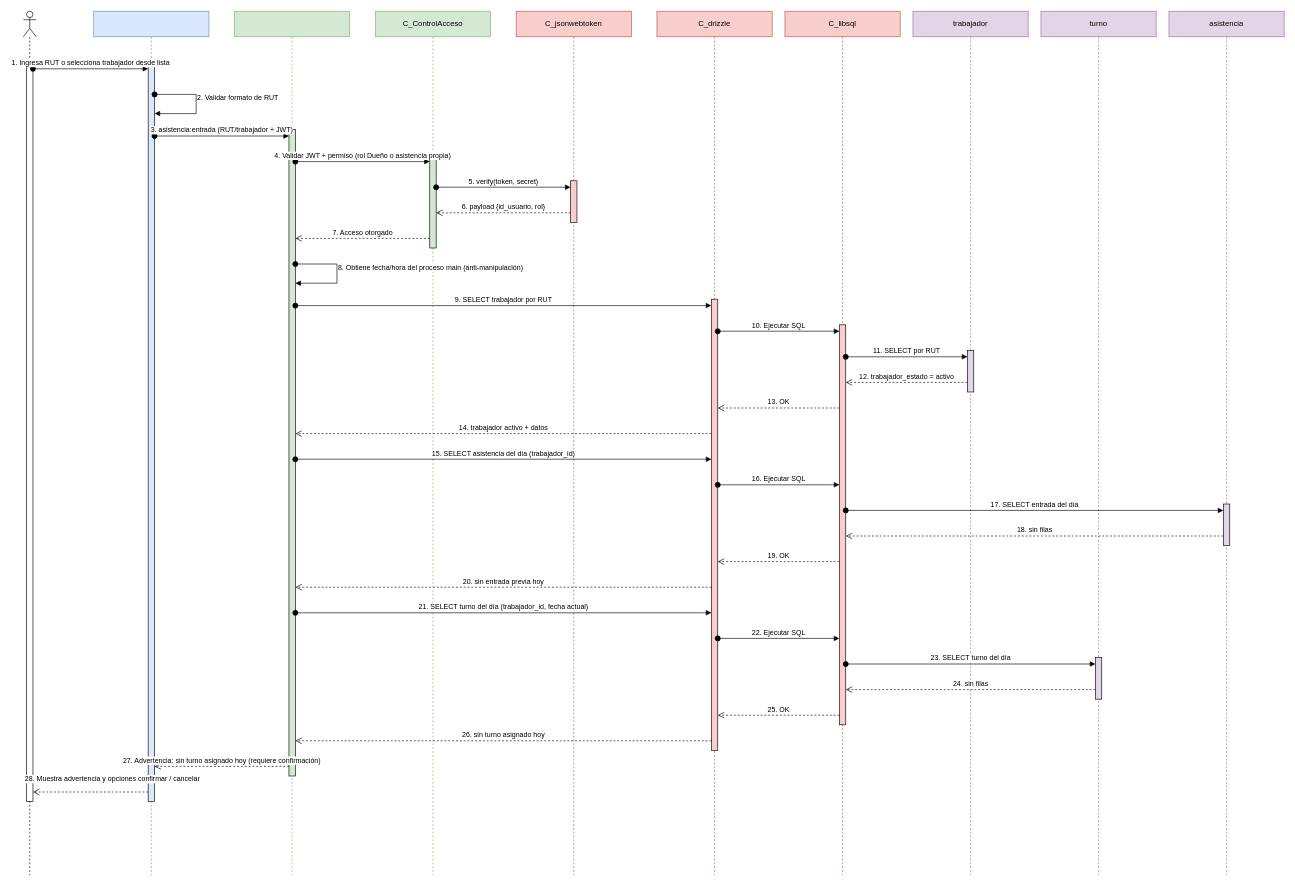
The diagram is 1295 pixels wide and 886 high, and some of its shapes have lost their labels. The shapes that lost their labels are listed below. From the top down, each one's box as (x1, y1, x2, y2) in pixels, then its label:
(23, 11, 36, 875): Dueño / Trabajador
(93, 11, 209, 875): V_RegistrarEntradaView
(234, 11, 350, 875): C_AsistenciaHandler
